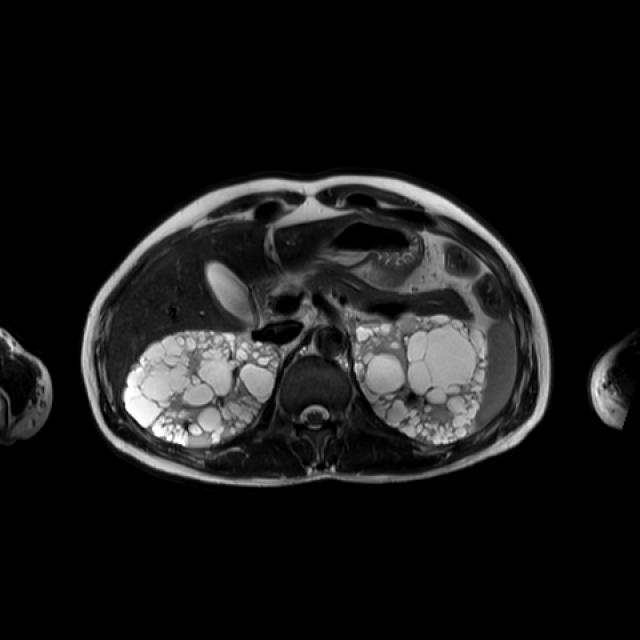sag: (124, 331, 278, 446)
sol: (357, 313, 490, 443)
